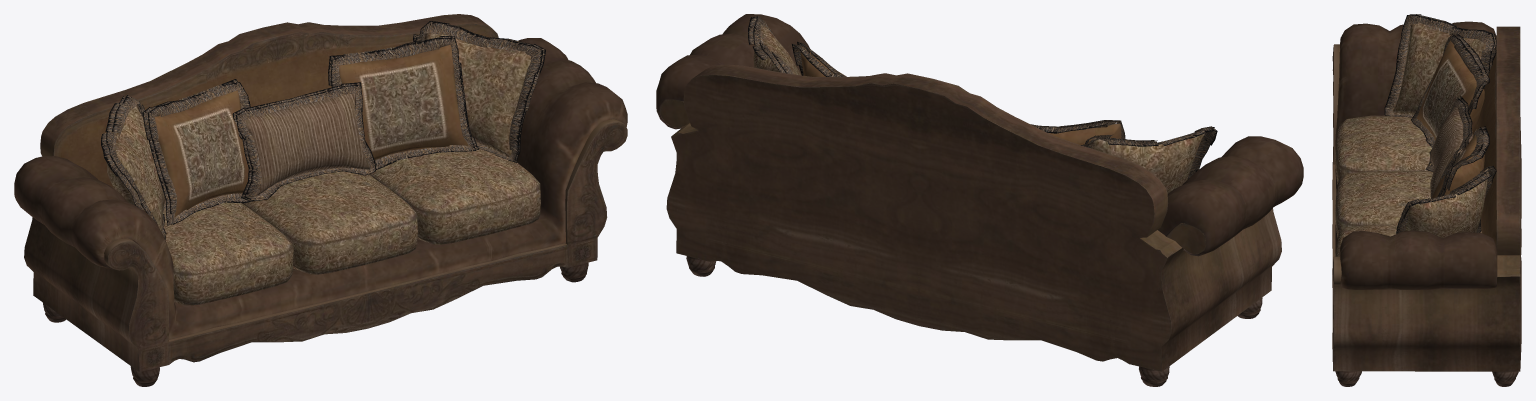
Rendered from sofa_03.glb.
3 views of the same model, side by side, from view 1: azimuth 30°, elevation 25°; view 2: azimuth 150°, elevation 25°; view 3: azimuth 270°, elevation 25° (orthographic). The views are drawn at different scales.
Visible parts, largest first — view 1: sofa_03; view 2: sofa_03; view 3: sofa_03.
Part boxes in pixels (x1,y1,x2,y2): sofa_03: (14, 14, 627, 386); sofa_03: (656, 14, 1303, 386); sofa_03: (1332, 14, 1521, 386).
Size of the model in its own units: 2.73 by 1.12 by 0.925.
Materials: 2 (2 with a texture image).
